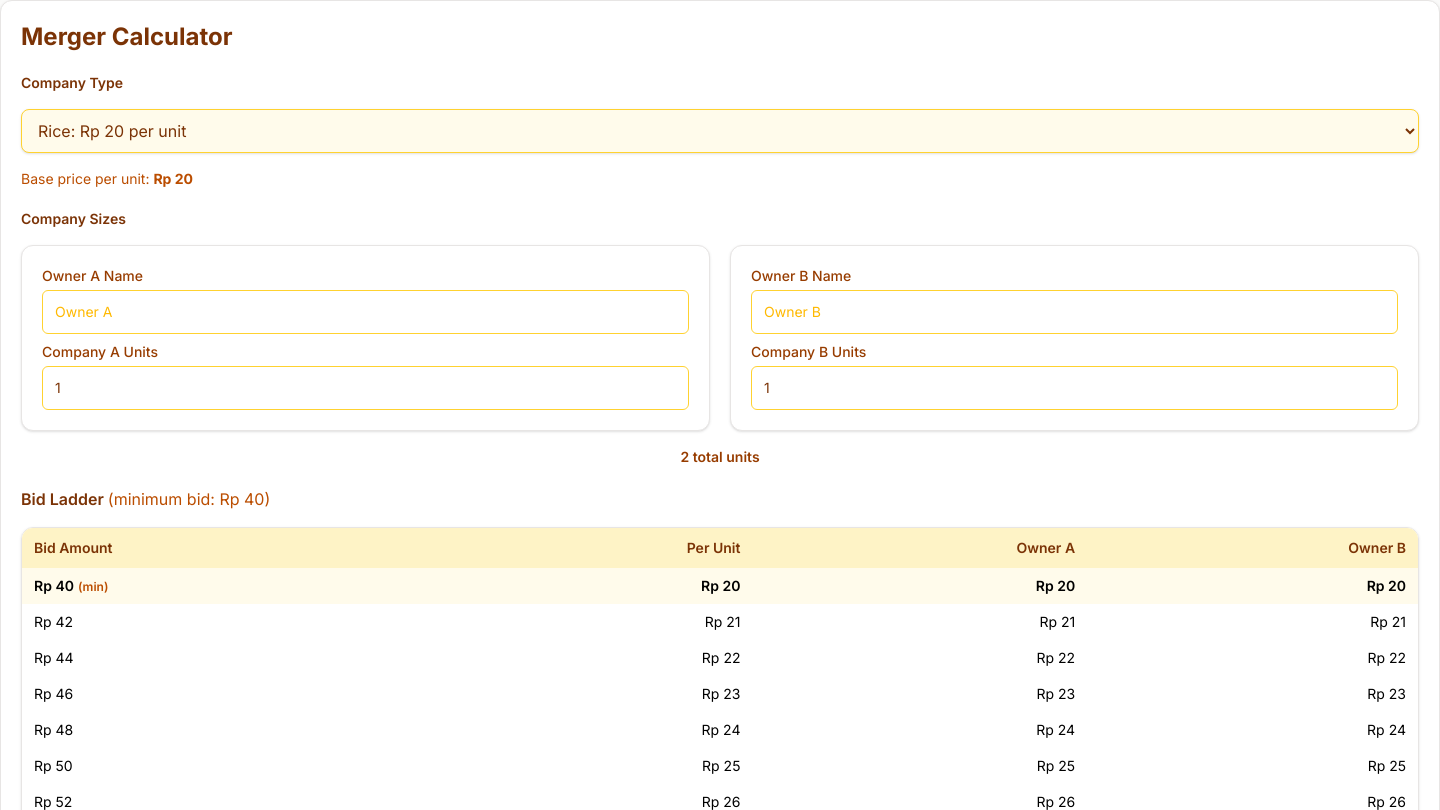
Test: MergerCalculator › company type selection › changes output when company type is changed
The width and height of the screenshot is (1440, 810).
Expected: the text "(minimum bid: Rp 40)" is shown, x1=108 y1=489 x2=270 y2=509
Select "Oil: Rp 40 per unit" in the dropdown labelled "Company Type" at (720, 131), box x1=21 y1=109 x2=1419 y2=153
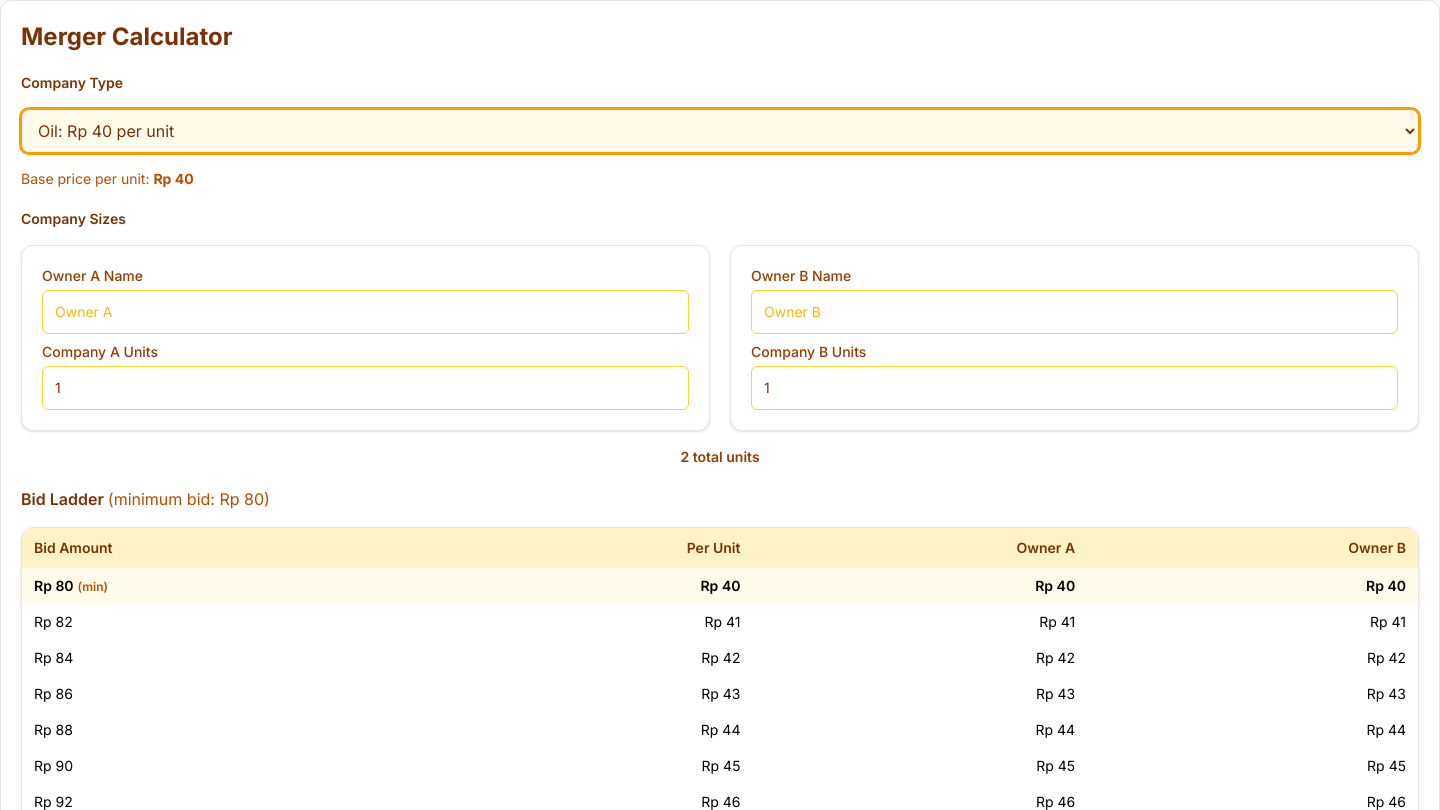
Now the text "(minimum bid: Rp 80)" is shown, box x1=108 y1=489 x2=270 y2=509
